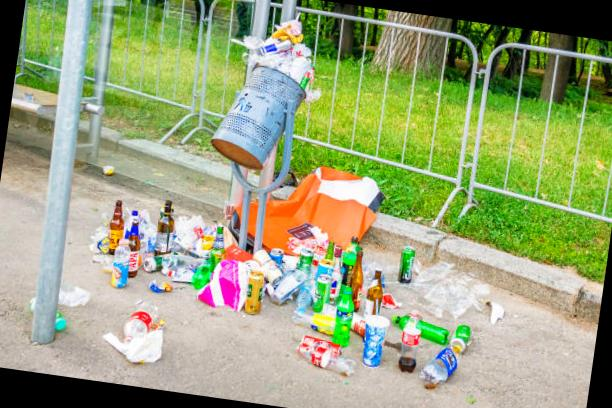trash: (67, 175, 520, 408), (226, 6, 328, 82), (17, 280, 94, 334), (94, 156, 130, 187)
trash_can_overflow: (171, 5, 374, 344)
